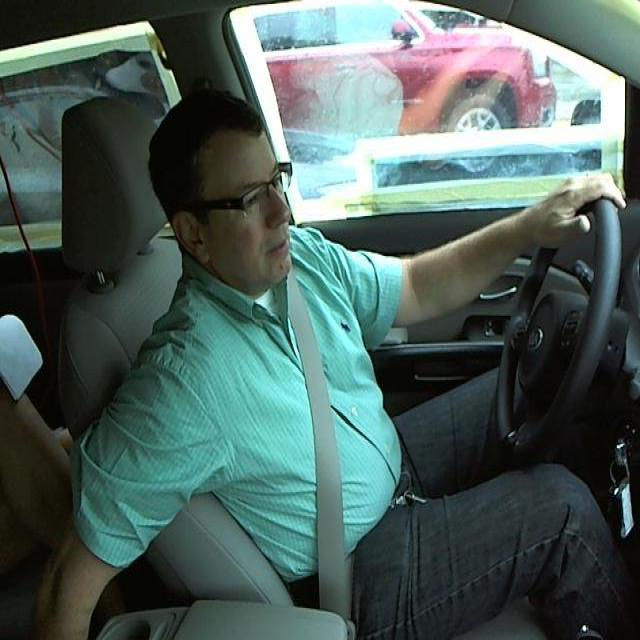seatbelt: (265, 264, 375, 612)
